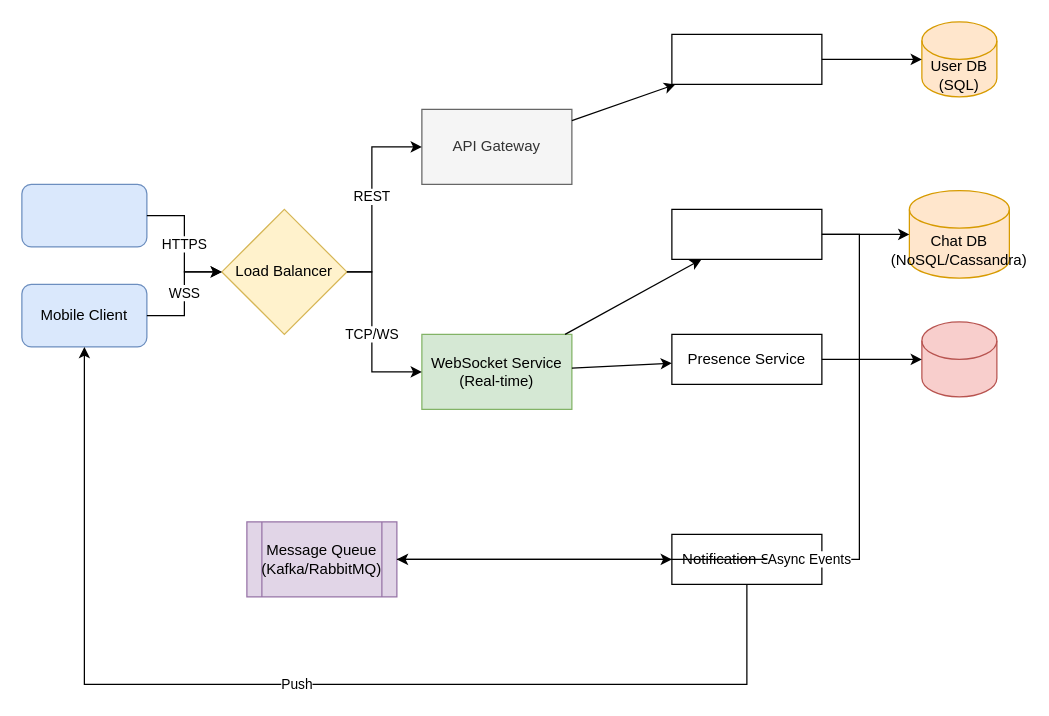
Image size: 1049x716. Some labels were removed from this diagram. The shapes that lost their labels are listed below. From the top down, each one's box as (x1, y1, x2, y2) in pixels, then its label:
(671, 33, 822, 84): Auth Service
(21, 183, 147, 247): Web Client
(671, 208, 822, 259): Message Service
(921, 321, 997, 397): Redis (Cache/Presence)
